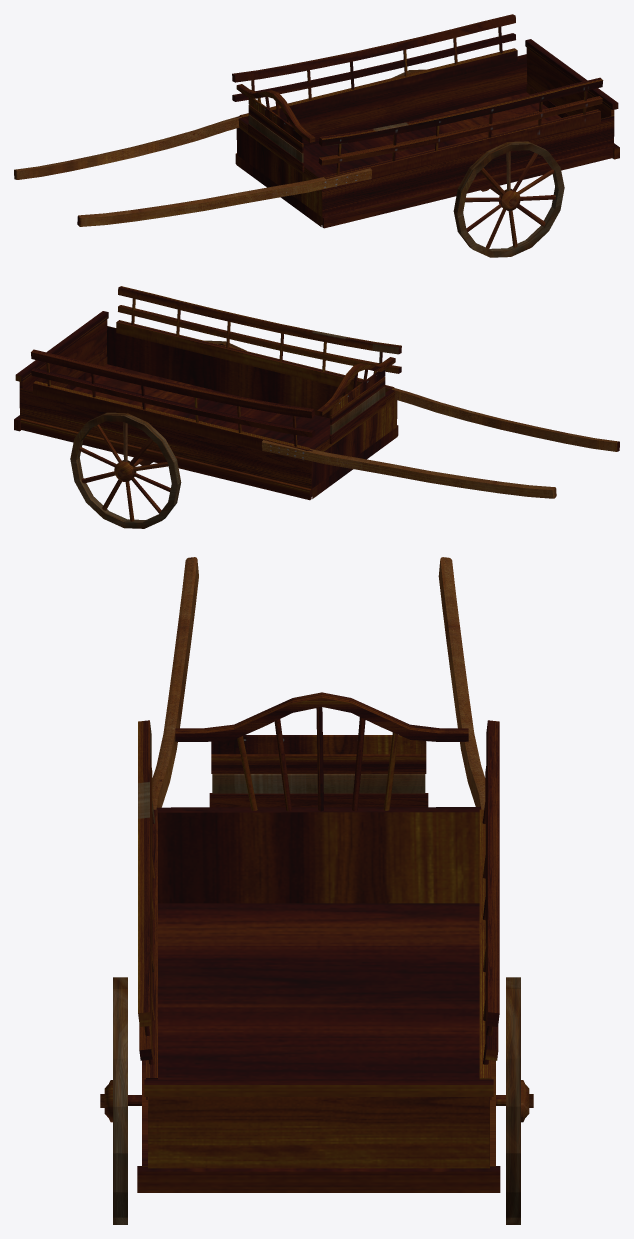
Rendered from wooden_cart.glb.
3 renders of one model, top to bottom at view 1: azimuth 30°, elevation 25°; view 2: azimuth 150°, elevation 25°; view 3: azimuth 270°, elevation 25°, orthographic. The views are drawn at different scales.
Parts seen in each view (by area): view 1: Cylinder.003, Cylinder.013; view 2: Cylinder.003, Cylinder.013; view 3: Cylinder.003, Cylinder.013.
Boxes of the visible parts, x1,y1,x2,y2 form: Cylinder.003: (14,14,619,228); Cylinder.013: (392,69,564,257); Cylinder.003: (14,286,619,500); Cylinder.013: (70,340,246,528); Cylinder.003: (137,557,500,1192); Cylinder.013: (100,977,533,1224).
Bounding box in the file's own units: 984 × 303 × 350.
Materials: 1 (1 with a texture image).
